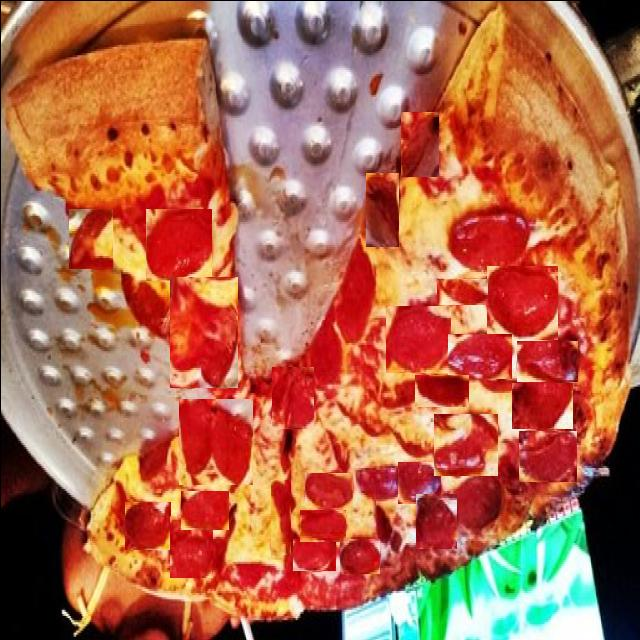pepperoni: (168, 276, 236, 387), (178, 398, 252, 483), (486, 265, 557, 339), (448, 210, 529, 270), (145, 208, 211, 280), (385, 305, 450, 372), (335, 235, 375, 343), (433, 413, 497, 475), (119, 270, 167, 337), (518, 430, 576, 481), (447, 333, 511, 378), (511, 382, 572, 428), (453, 474, 502, 530), (169, 515, 212, 577), (68, 208, 112, 268), (271, 366, 313, 428), (516, 340, 577, 381), (400, 111, 438, 176), (365, 172, 398, 246), (308, 318, 342, 386), (415, 493, 456, 548), (124, 501, 170, 549), (180, 490, 228, 529), (397, 461, 440, 503), (414, 374, 468, 406), (304, 472, 352, 507), (354, 466, 403, 498), (270, 479, 290, 554), (298, 509, 344, 541), (339, 538, 379, 573), (292, 538, 335, 570), (436, 278, 487, 304)
pizza: (86, 3, 630, 616), (3, 38, 251, 399)
